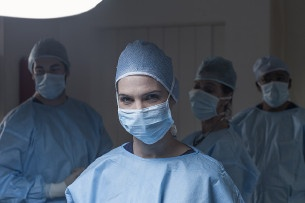Mask: (113, 87, 167, 141)
